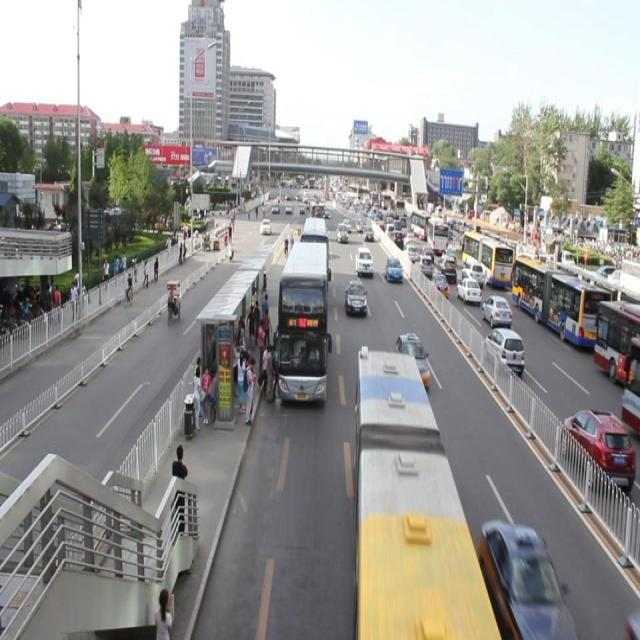car: (477, 516, 577, 640), (344, 278, 366, 317), (354, 243, 373, 274), (384, 256, 402, 282), (336, 221, 348, 241), (362, 223, 373, 239), (354, 218, 364, 232)
van: (353, 347, 499, 640), (277, 236, 327, 405), (297, 214, 327, 296)
